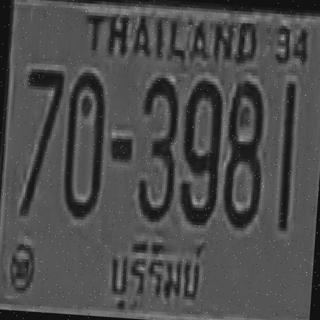N00: (60, 68, 110, 221)
N01: (276, 82, 296, 230)
N03: (135, 74, 182, 224)
N07: (16, 64, 65, 220)
N08: (219, 77, 268, 230)
N09: (176, 76, 226, 228)
P06: (100, 230, 217, 320)
